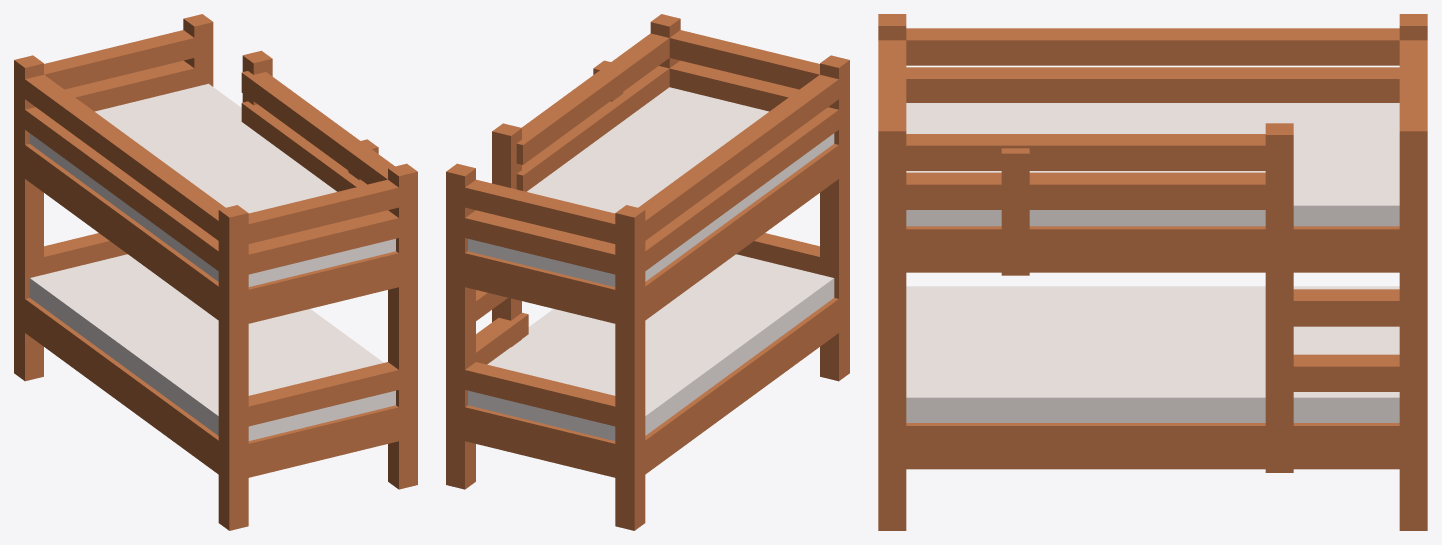
3 views of the same model, side by side, from view 1: azimuth 30°, elevation 25°; view 2: azimuth 150°, elevation 25°; view 3: azimuth 270°, elevation 25° (orthographic). The views are drawn at different scales.
Visible parts, largest first — view 1: bunk_bed; view 2: bunk_bed; view 3: bunk_bed.
Part boxes in pixels (x1,y1,x2,y2): bunk_bed: [14, 14, 417, 530]; bunk_bed: [446, 14, 849, 530]; bunk_bed: [878, 14, 1427, 530].
Bounding box in the file's own units: 1.06 × 1.61 × 2.
